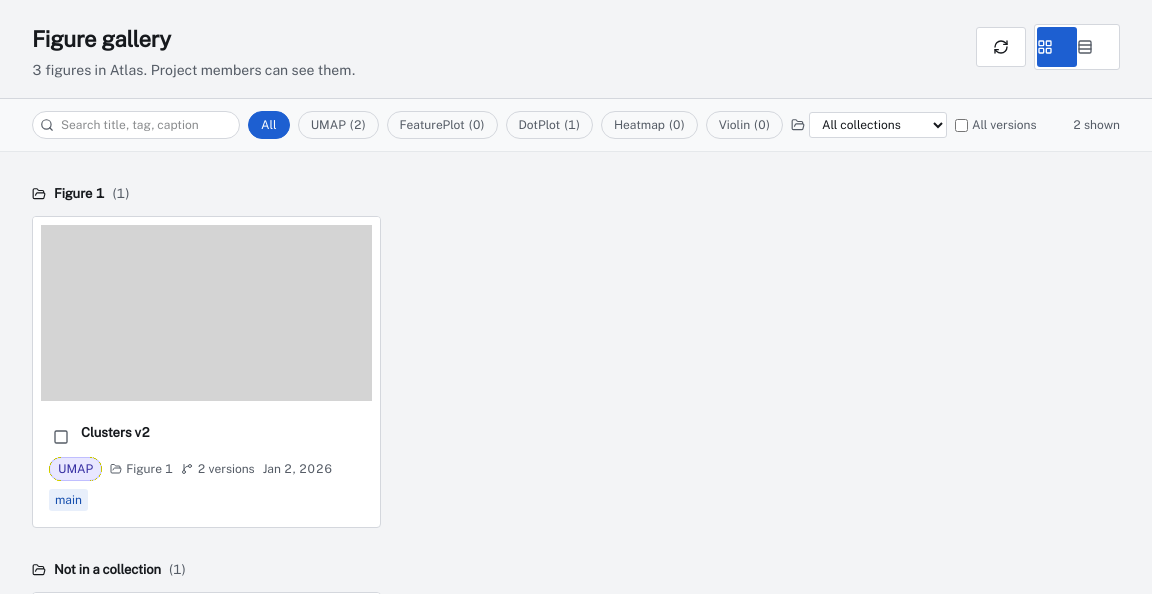
Test: Publication › project gallery › exports selected figures with only the history they need
The image size is (1152, 594).
Click the button named "Select Clusters v2". click: {"x": 61, "y": 437}
box: [49,425,73,449]
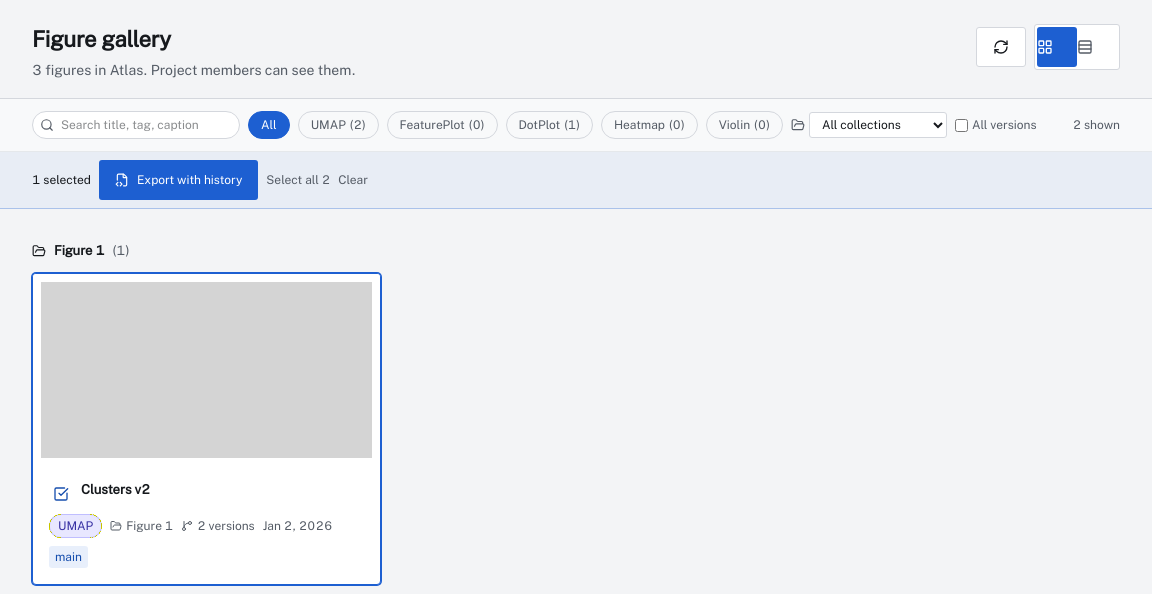
Click the button "Export with history". click: {"x": 179, "y": 180}
box: [99,160,258,200]
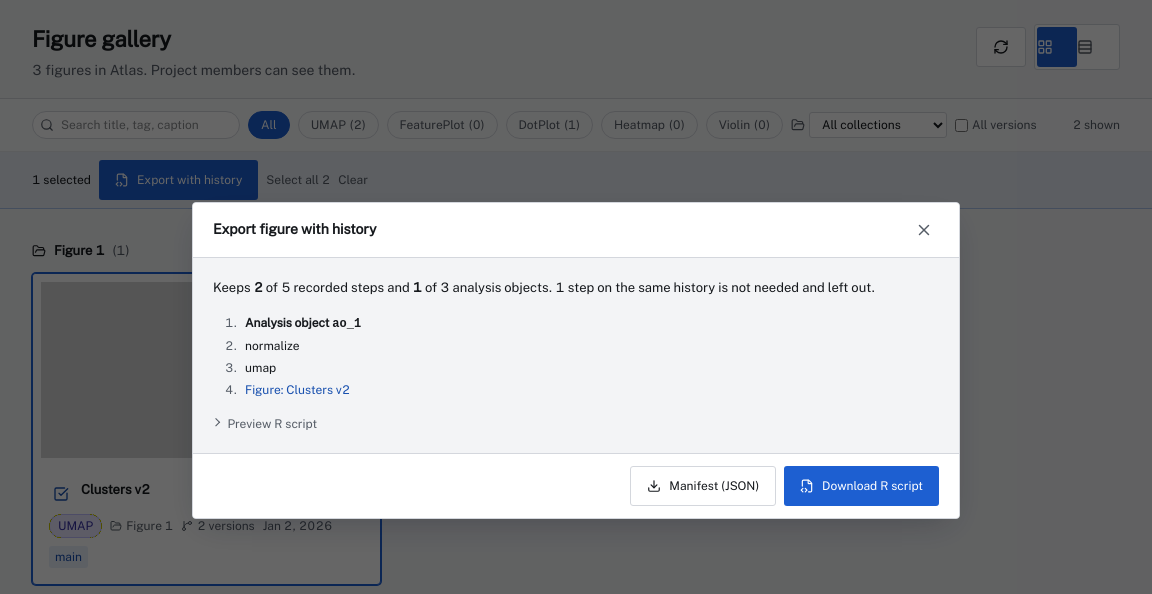
Expected: the text "1 step on the same history is not needed" is shown, [552,280,875,294]
Expected: the text "normalize" is shown, [245,336,300,354]
Expected: the button "Download R script" is enabled, [784,466,939,506]
